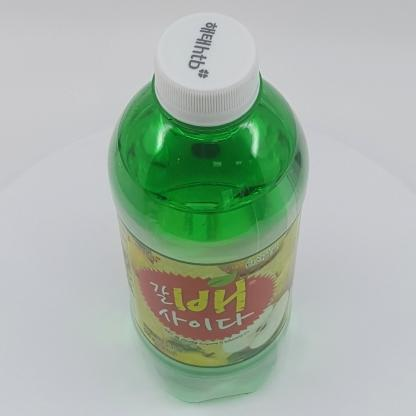-------500ML: (107, 12, 309, 403)
